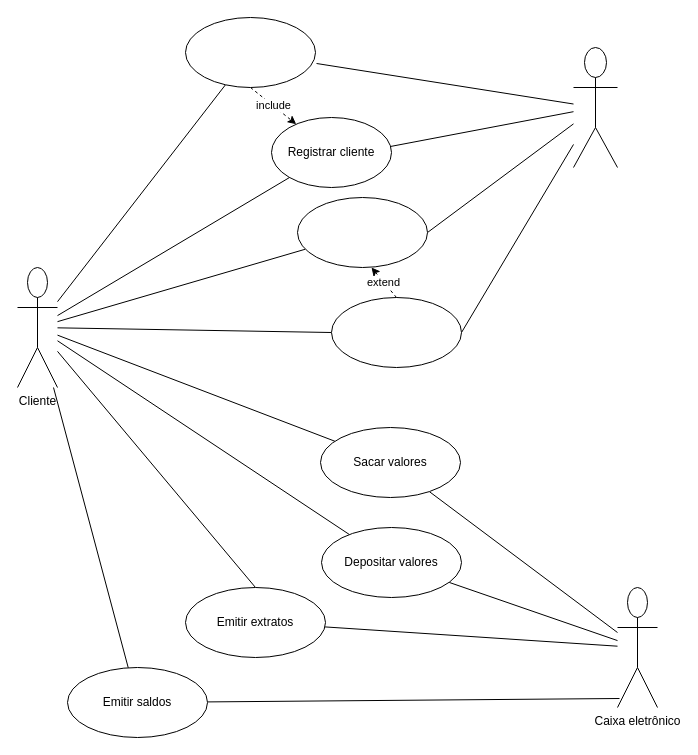
Image size: 698x755. Some labels were removed from this diagram. Each missing label, with the centre of its shape:
Abrir contas: point (250, 52)
Alterar dados do cliente: point (396, 332)
Encerrar contas: point (362, 232)
Funcionário: point (595, 107)
